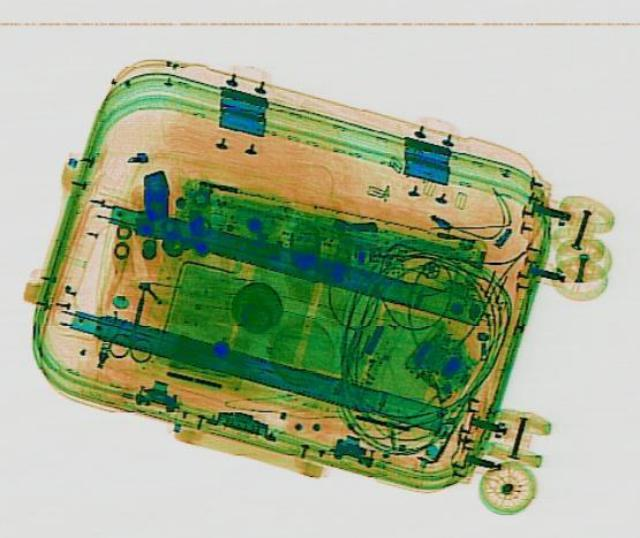Scissors: (99, 282, 168, 362)
